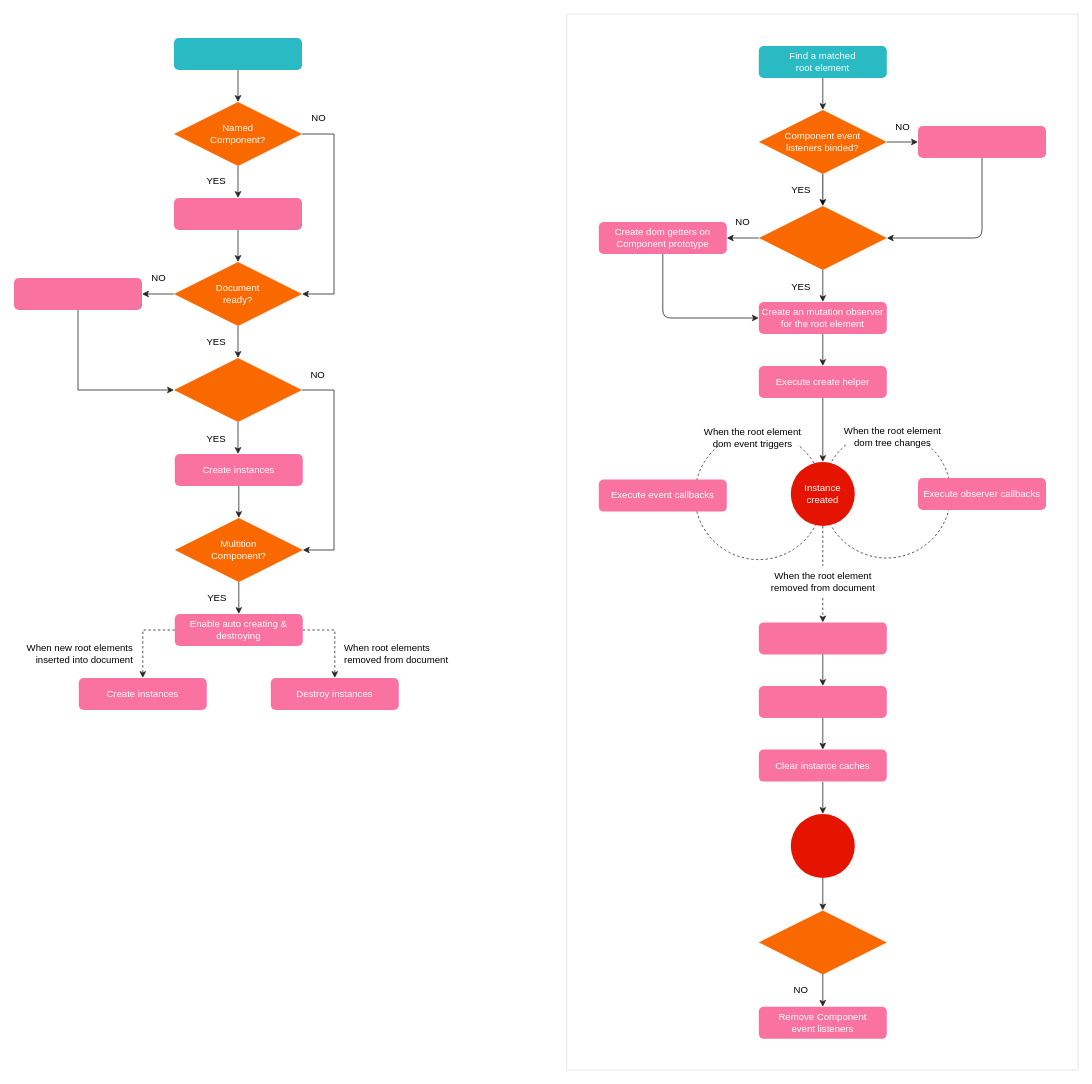
The diagram is 1092 pixels wide and 1084 high, and some of its shapes have lost their labels. Here are the shapes that lost their labels. From the top down, the centre of each, then its label:
At [238,54]: "luda.component ( )".
At [982,142]: "Delegate event listeners on document".
At [238,214]: "Create a proxy".
At [822,238]: "Component dom getters created?".
At [78,294]: "Listen document ready".
At [238,390]: "Any matched root elements?".
At [822,638]: "Execute destroy helper".
At [822,702]: "Destroy mutation observer of the root element".
At [822,846]: "Instance destroied".
At [822,942]: "Any existed instance of the Component?".
